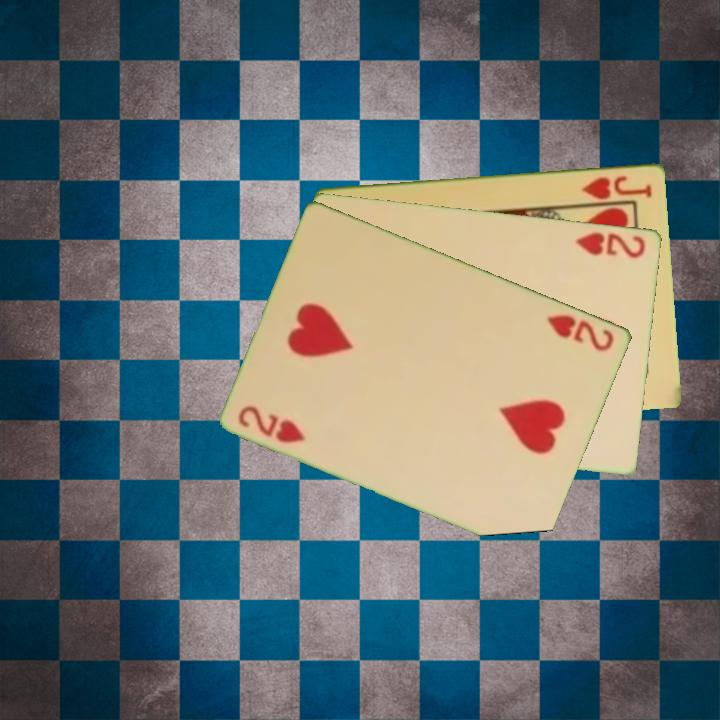2h: (235, 401, 309, 446), (544, 310, 618, 354), (572, 228, 649, 261)
Jh: (580, 171, 655, 202)
